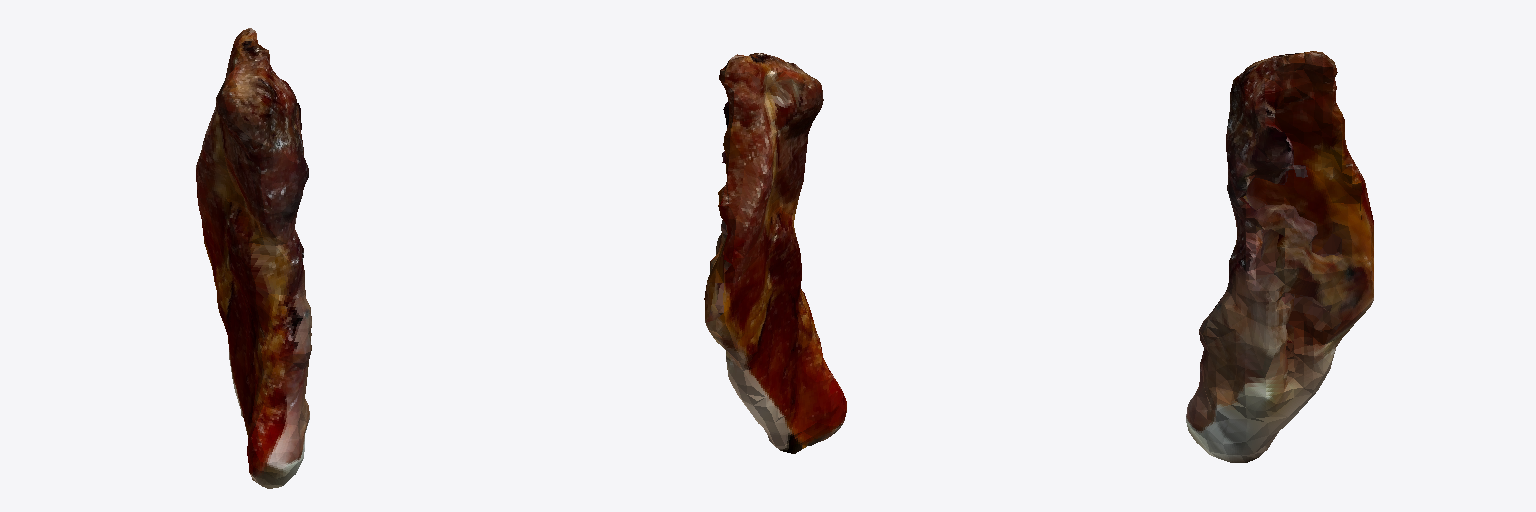
3 renders of one model, left to right at view 1: azimuth 30°, elevation 25°; view 2: azimuth 150°, elevation 25°; view 3: azimuth 270°, elevation 25°, orthographic.
Bounding box in the file's own units: 0.0469 × 0.2202 × 0.0898.
1 materials, 1 textured.